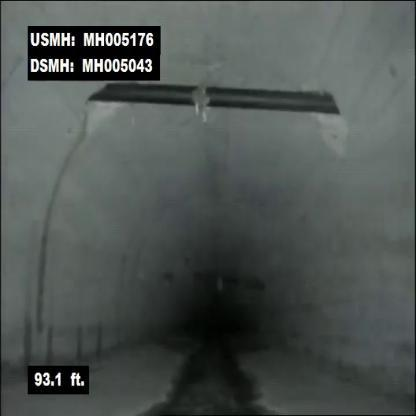utits: (161, 48, 362, 157)
